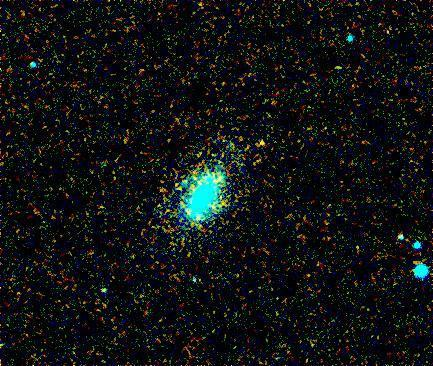star: (248, 126, 278, 156)
